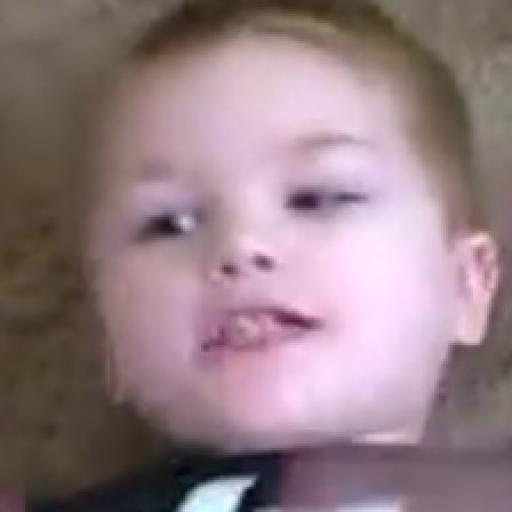Autism: (50, 19, 512, 464)
